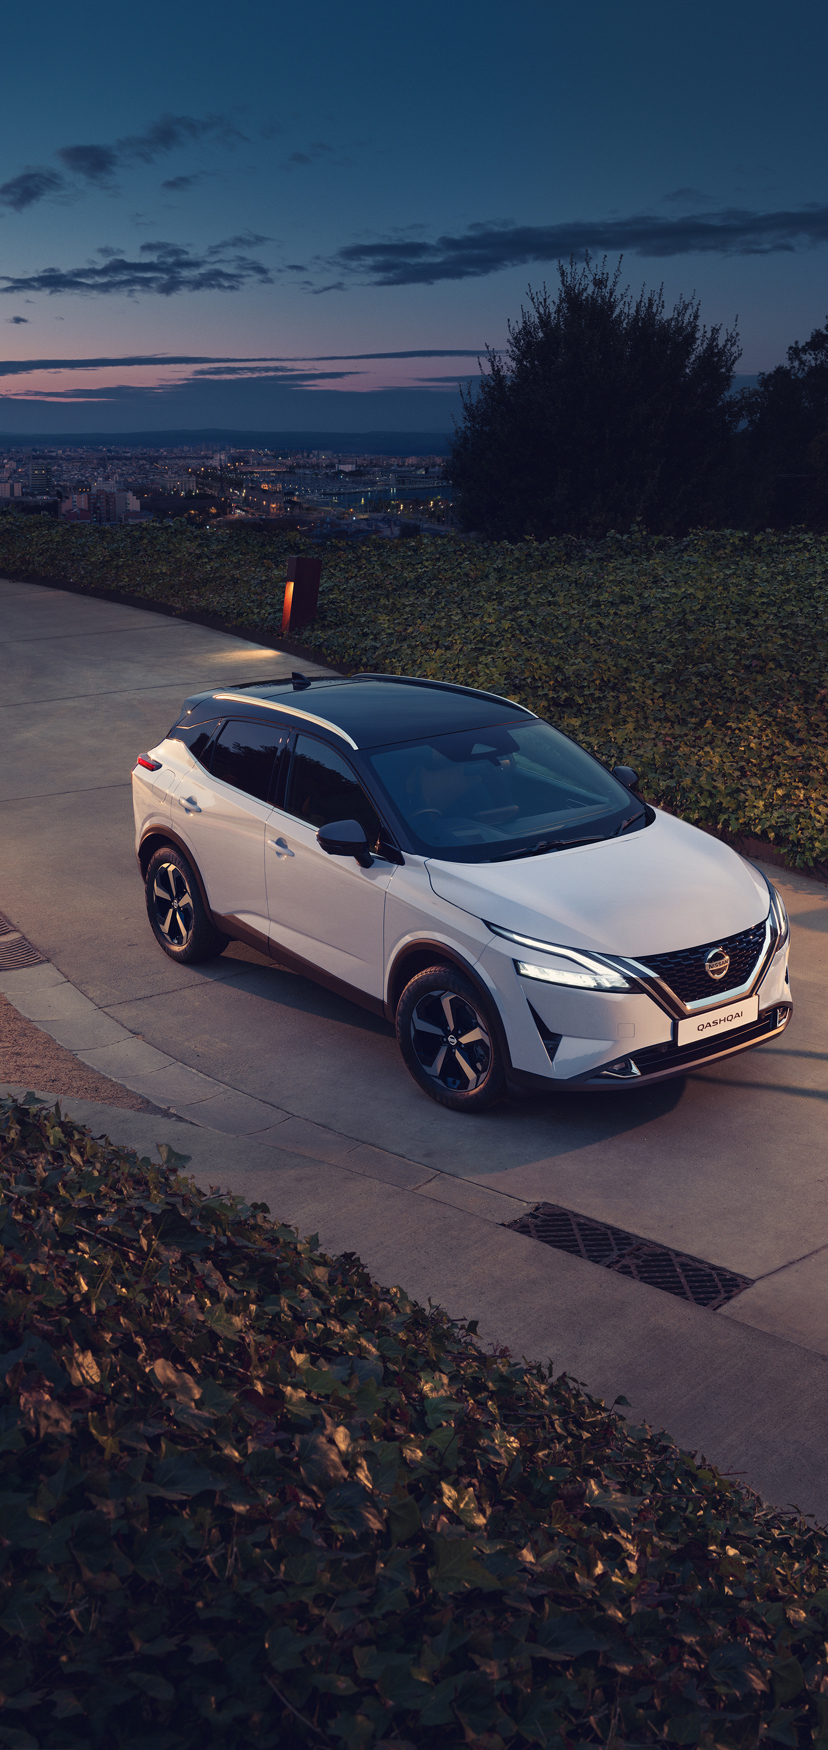car: (121, 664, 790, 1121)
